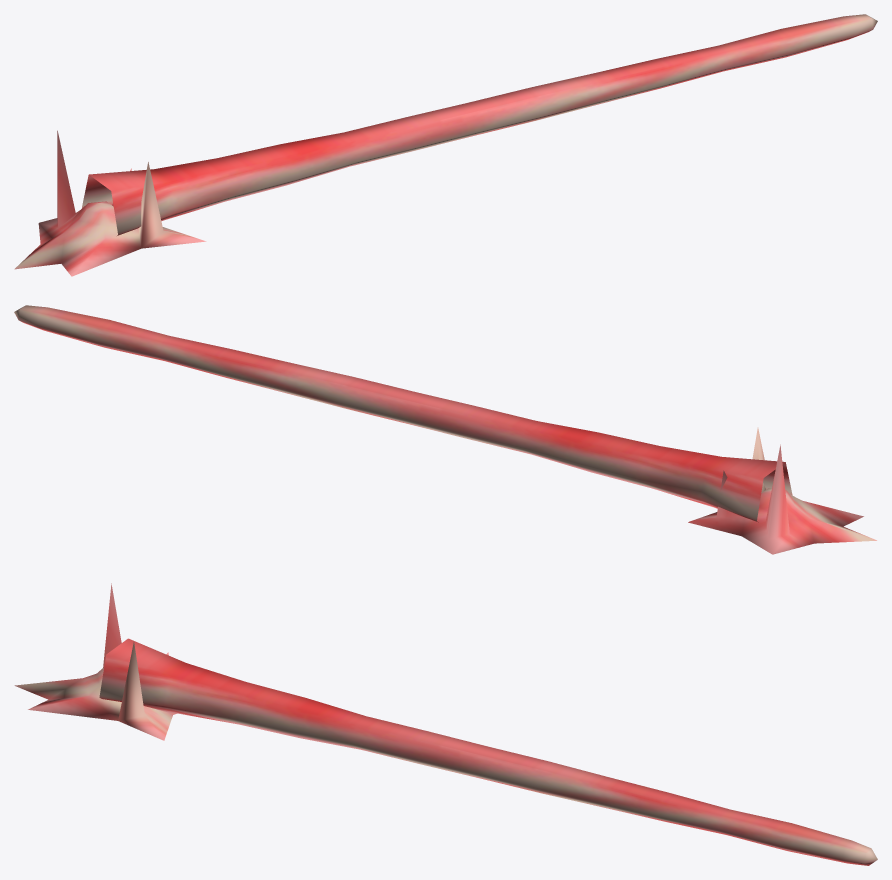
File: em038_emdui.obj
3 views of the same model, one above another, from view 1: azimuth 30°, elevation 25°; view 2: azimuth 150°, elevation 25°; view 3: azimuth 330°, elevation 25° (orthographic). The views are drawn at different scales.
Parts seen in each view (by area): view 1: part_00, part_01; view 2: part_00, part_01; view 3: part_00, part_01.
Part boxes in pixels (x1,y1,x2,y2): part_00: (81, 14, 877, 235); part_01: (14, 130, 206, 276); part_00: (14, 305, 792, 522); part_01: (688, 427, 876, 554); part_00: (99, 638, 877, 865); part_01: (14, 583, 176, 740).
Size of the model in its own units: 10.52 by 1.25 by 1.32.
Materials: 1 (1 with a texture image).
